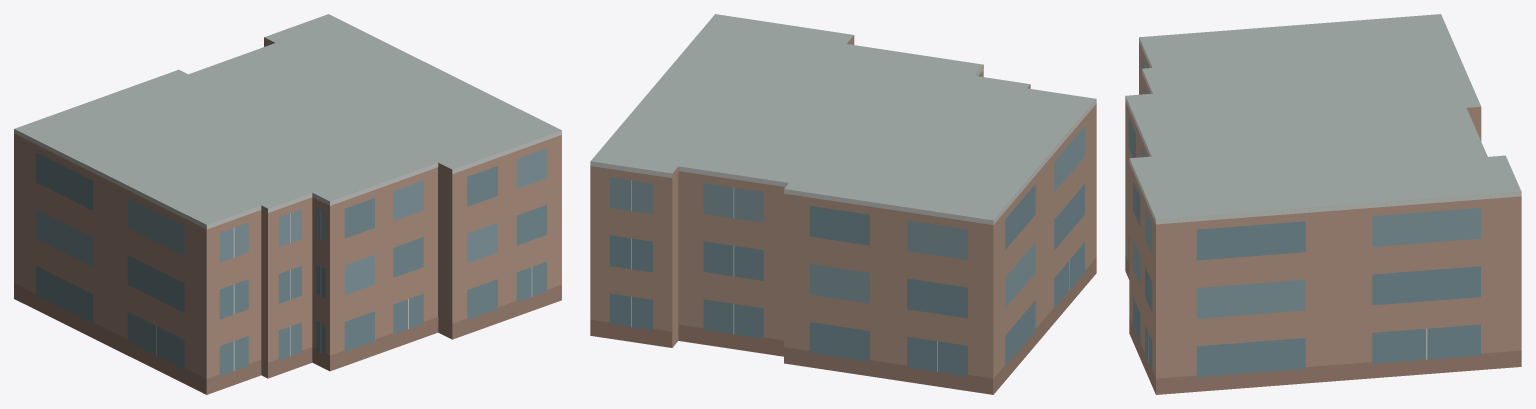
The model's file is survey-upis-32863833.glb.
3 views of the same model, side by side, from view 1: azimuth 30°, elevation 25°; view 2: azimuth 150°, elevation 25°; view 3: azimuth 270°, elevation 25° (orthographic). The views are drawn at different scales.
Visible parts, largest first — view 1: survey-upis-32863833.tmp; view 2: survey-upis-32863833.tmp; view 3: survey-upis-32863833.tmp.
Part boxes in pixels (box(x1,y1,x2,y2)): survey-upis-32863833.tmp: box(14, 14, 561, 394); survey-upis-32863833.tmp: box(590, 14, 1096, 394); survey-upis-32863833.tmp: box(1125, 14, 1521, 394).
Size of the model in its own units: 23.07 by 9.15 by 18.78.
